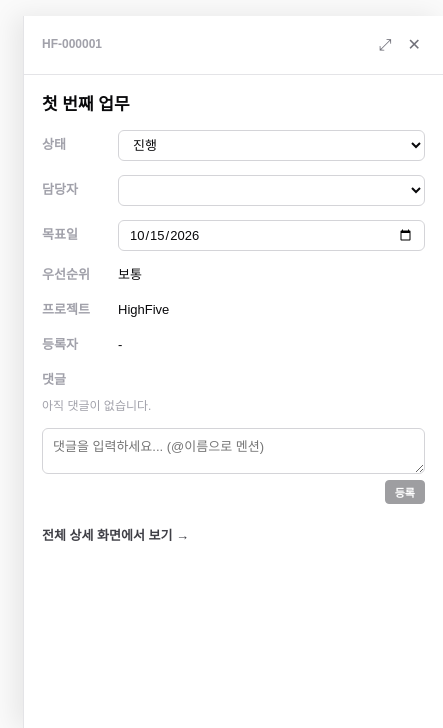
Test: 요약보기 패널 댓글 멘션 (HF-000067) › @를 입력하면 멤버 목록이 뜨고, 선택하면 @[이름](id) 형식으로 저장한다
The image size is (443, 728).
Expected: the heading "첫 번째 업무" is shown, [42, 95, 130, 114]
Type "확인 부탁 @한" into the text box with placeholder "댓글을 입력하세요... (@이름으로 멘션)" at (234, 451), box [42, 428, 425, 474]
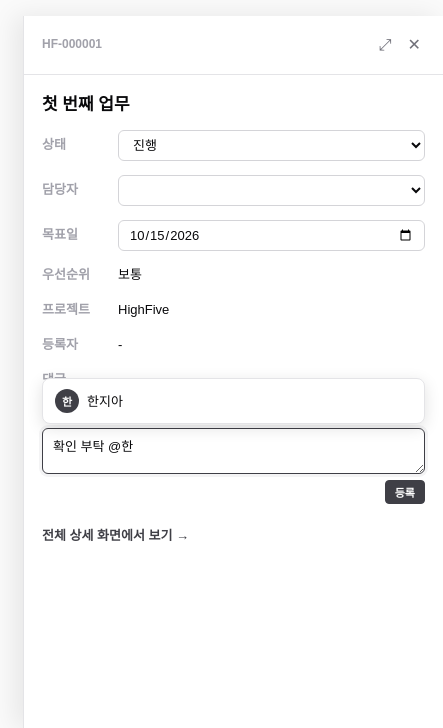
Expected: the option "홍성호" is not shown
Click the option "한 한지아" at (105, 402), box [47, 383, 420, 419]
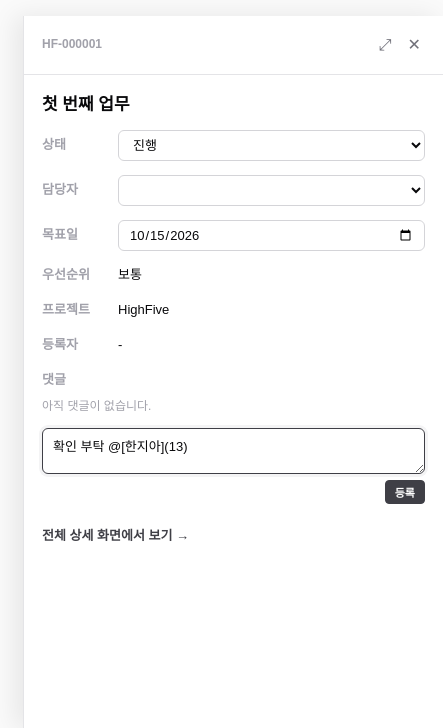
Expected: the text box with placeholder "댓글을 입력하세요... (@이름으로 멘션)" holds "확인 부탁 @[한지아](13) ", [42, 428, 425, 474]
Expected: the list is gone
Click the button "등록" at (405, 492), box [385, 480, 425, 504]
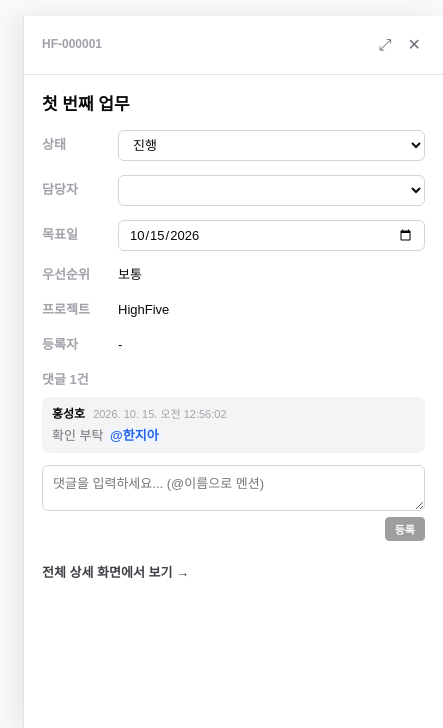
Expected: the text "@한지아" is shown, [107, 428, 162, 443]
